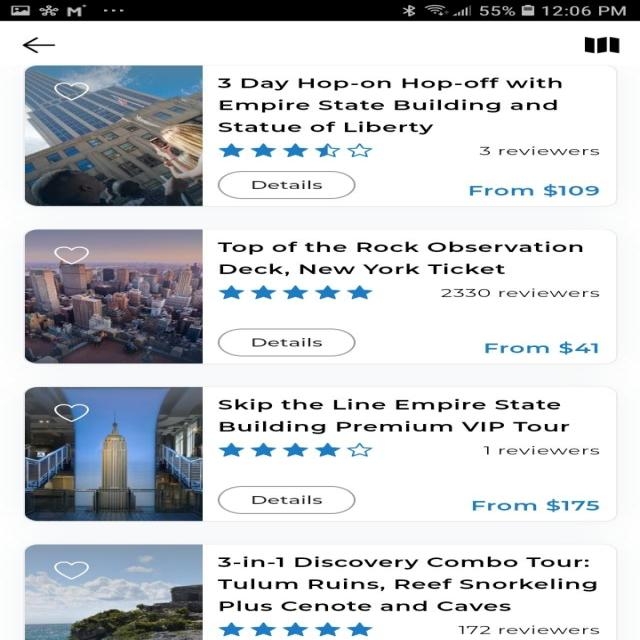Icon: (218, 622, 374, 637), (218, 442, 372, 457), (216, 285, 372, 299), (218, 143, 372, 157), (53, 403, 88, 421), (54, 562, 88, 580), (54, 82, 88, 100), (584, 37, 619, 54), (54, 247, 88, 264), (22, 37, 55, 53)
Image: (25, 65, 203, 206), (25, 229, 203, 364), (25, 387, 203, 521), (26, 544, 202, 639)
Text: (216, 556, 596, 611), (217, 77, 578, 134), (216, 240, 582, 276), (218, 398, 570, 434), (472, 498, 599, 512), (468, 184, 598, 197), (484, 340, 598, 354), (440, 288, 598, 297), (458, 625, 600, 634), (482, 445, 600, 455), (478, 146, 599, 155)
TextButton: (216, 485, 356, 514), (216, 328, 356, 357), (216, 170, 356, 199)
